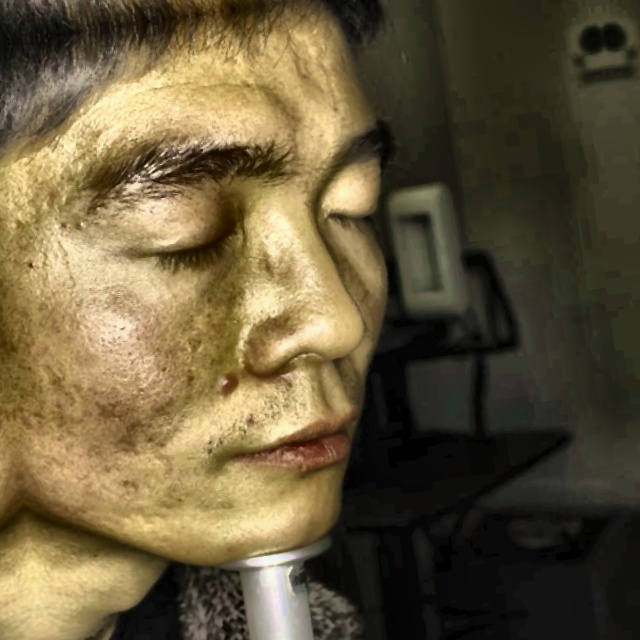comedone: (207, 372, 243, 404)
